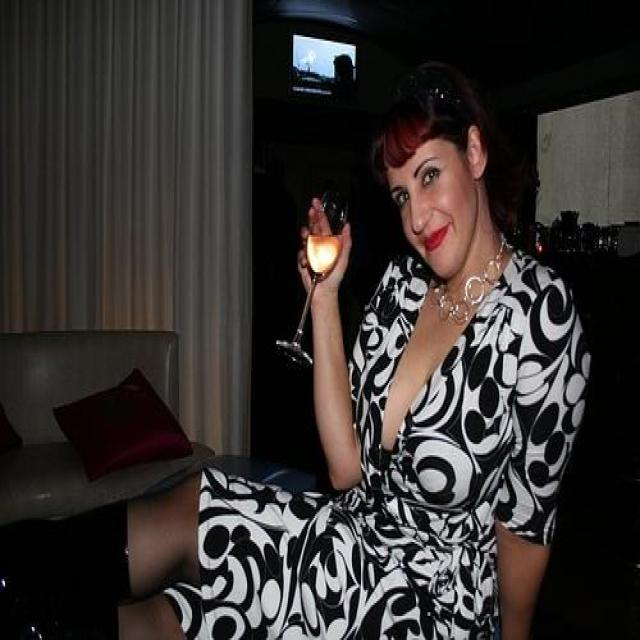No_Gloves: (299, 182, 351, 328)
